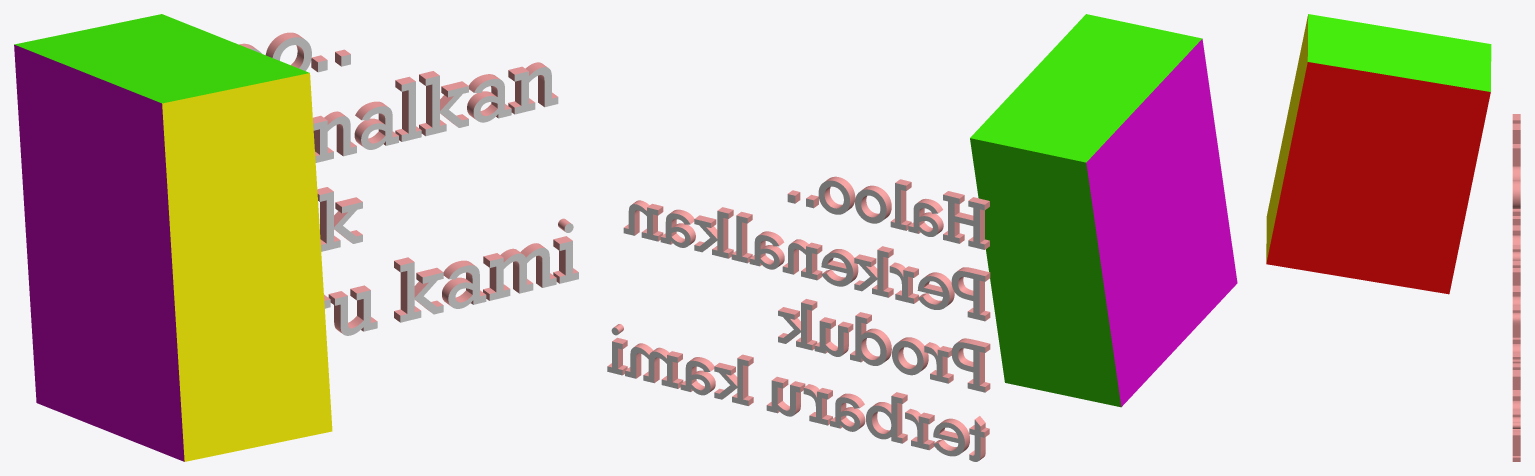
The model's file is asset.glb.
3 views of the same model, side by side, from view 1: azimuth 30°, elevation 25°; view 2: azimuth 150°, elevation 25°; view 3: azimuth 270°, elevation 25° (orthographic). The views are drawn at different scales.
Visible parts, largest first — view 1: Cube, Cap_1_34, m, Cap_1_32, Cap_1_16, Cap_1_24, k_4, Cap_1_18, Cap_1_13, k_2, Cap_1_33, Cap_1_31 (+10 smaller); view 2: Cube, Cap_2, Cap_2_34, H, m, Cap_2_28, Cap_2_22, Cap_2_8, Cap_2_19, Cap_2_11, Cap_2_16, Cap_2_32 (+1 smaller); view 3: Cube, n_2, i, H.
Boxes of the visible parts, left/top/right/bottom form: Cube: left=14, top=14, right=332, bottom=461; Cap_1_34: left=489, top=248, right=556, bottom=300; m: left=483, top=243, right=555, bottom=300; Cap_1_32: left=400, top=262, right=443, bottom=322; Cap_1_16: left=425, top=75, right=468, bottom=135; Cap_1_24: left=319, top=191, right=362, bottom=251; k_4: left=394, top=257, right=443, bottom=322; Cap_1_18: left=514, top=67, right=558, bottom=114; Cap_1_13: left=313, top=116, right=356, bottom=162; k_2: left=419, top=71, right=468, bottom=135; Cap_1_33: left=448, top=265, right=486, bottom=308; Cap_1_31: left=335, top=290, right=377, bottom=335; Cube: left=970, top=14, right=1237, bottom=407; Cap_2: left=943, top=194, right=984, bottom=249; Cap_2_34: left=625, top=347, right=677, bottom=388; H: left=943, top=191, right=989, bottom=249; m: left=625, top=343, right=683, bottom=388; Cap_2_28: left=866, top=396, right=902, bottom=443; Cap_2_22: left=850, top=316, right=886, bottom=365; Cap_2_8: left=951, top=271, right=985, bottom=321; Cap_2_19: left=951, top=342, right=985, bottom=392; Cap_2_11: left=854, top=250, right=888, bottom=297; Cap_2_16: left=694, top=211, right=728, bottom=258; Cap_2_32: left=714, top=358, right=748, bottom=405; Cube: left=1266, top=14, right=1491, bottom=294; n_2: left=1512, top=306, right=1520, bottom=343; i: left=1512, top=422, right=1520, bottom=461; H: left=1512, top=114, right=1520, bottom=143.
Size of the model in its own units: 368 by 261 by 220.
